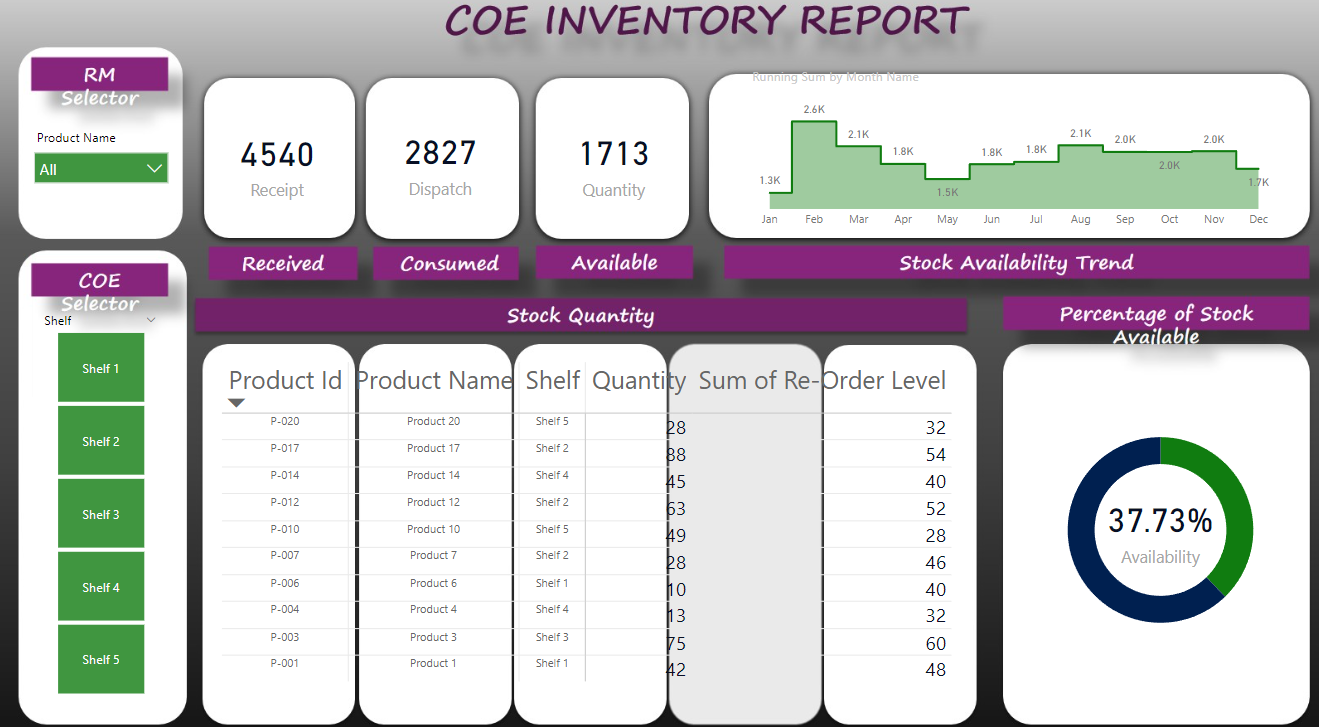

The page's visual inventory and layout, read from the dashboard file:
{"tool":"powerbi","page":{"name":"Page 1","canvas":[1280,720],"ordinal":0},"visuals":[{"type":"card","fields":{"Values":[" Measures.Receipt"]},"box":[166,73,208,184],"z":0},{"type":"card","fields":{"Values":[" Measures.Dispatch"]},"box":[327,89,202,150],"z":1000},{"type":"card","fields":{"Values":[" Measures.Quantity"]},"box":[516,89,158,152],"z":2000},{"type":"donutChart","fields":{"Y":[" Measures.Availability"," Measures.Remainder"]},"box":[1006,370,234,300],"z":3000},{"type":"lineChart","fields":{"Y":[" Measures.Quantity","select"],"Category":["Calendar.Month Name"]},"box":[724,73,516,164],"z":4000},{"type":"pivotTable","fields":{"Rows":["Products.Product Id","Products.Product Name","Products.Shelf"],"Values":[" Measures.Quantity","Sum(Products.Re-Order Level)"]},"box":[212,353,715,333],"z":5000},{"type":"slicer","fields":{"Values":["Products.Shelf"]},"box":[32.5,305,133.8,380],"z":6000},{"type":"card","fields":{"Values":[" Measures.Availability"]},"box":[988,454,270,132],"z":7000},{"type":"slicer","fields":{"Values":["Products.Product Name"]},"box":[25,127.5,150,108.8],"z":7001}]}

Visuals, with their boxes in screenshot pixels (x1, y1, x2, y2), scaled from the page's 1280x720 canvas onto the 1319x727 screenshot:
card -  Measures.Receipt: x1=171, y1=74, x2=385, y2=259
card -  Measures.Dispatch: x1=337, y1=90, x2=545, y2=241
card -  Measures.Quantity: x1=532, y1=90, x2=695, y2=243
donutChart -  Measures.Availability x  Measures.Remainder: x1=1037, y1=374, x2=1278, y2=677
lineChart -  Measures.Quantity x select: x1=746, y1=74, x2=1278, y2=239
pivotTable - Products.Product Id x Products.Product Name: x1=218, y1=356, x2=955, y2=693
slicer - Products.Shelf: x1=33, y1=308, x2=171, y2=692
card -  Measures.Availability: x1=1018, y1=458, x2=1296, y2=592
slicer - Products.Product Name: x1=26, y1=129, x2=180, y2=239
